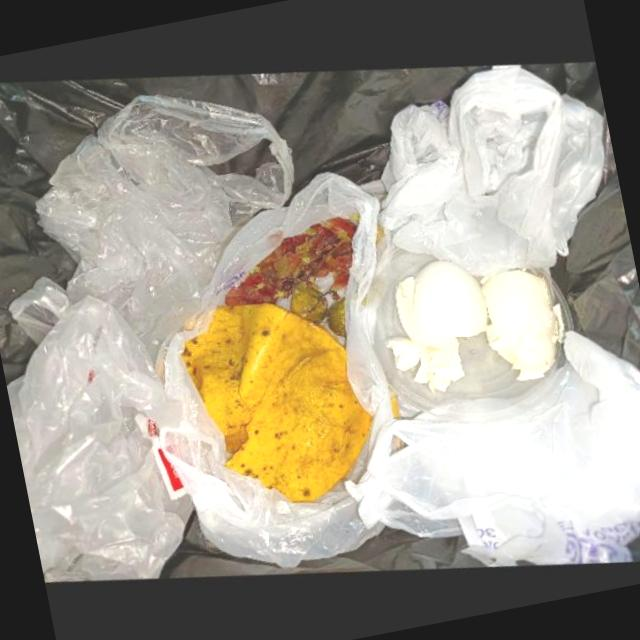tui_ni_long: (8, 94, 295, 362), (344, 330, 640, 566), (145, 306, 385, 569), (7, 295, 196, 582), (378, 64, 605, 277), (201, 171, 389, 417)
vo_trai_cay: (180, 304, 373, 504), (225, 216, 358, 305), (290, 281, 328, 324), (327, 296, 347, 337)
vo_trung: (481, 268, 565, 381), (396, 260, 489, 351), (385, 336, 465, 394)
